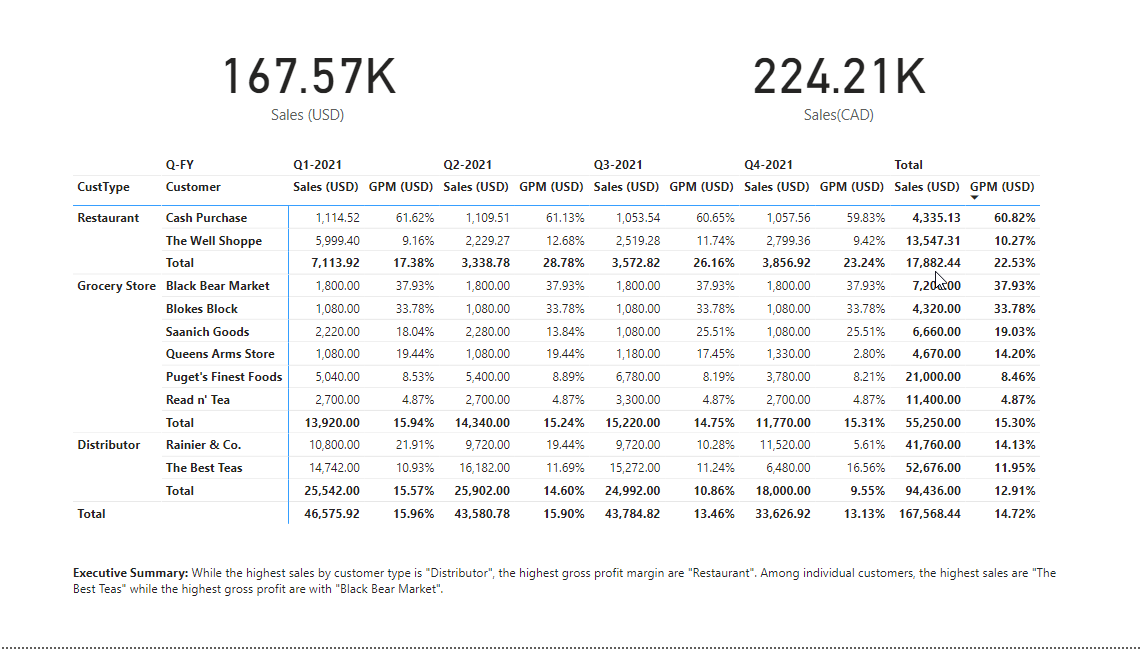

Layout of this report page (visuals, bound fields, positions):
{"tool":"powerbi","page":{"name":"Sales and GPM","canvas":[1280,720],"ordinal":0},"visuals":[{"type":"textbox","box":[150,117.2,300,150],"z":0},{"type":"pivotTable","fields":{"Rows":["Customers.CustType","Customers.Customer"],"Values":["Sales.Sales ($USD)","Sales.GPM (USD)"],"Columns":["Date.Q-FY"]},"box":[83.7,172.9,1111.5,451.5],"z":1000},{"type":"textbox","box":[1003.1,41.2,65.9,38.4],"z":2000},{"type":"card","fields":{"Values":["Sales.Sales(CAD)"]},"box":[790.4,22,278.6,150.9],"z":3000},{"type":"card","fields":{"Values":["Sales.Sales ($USD)"]},"box":[207.2,22,278.6,150.9],"z":4000},{"type":"textbox","box":[83.7,624.4,1111.5,96.1],"z":5000}]}

Visuals, with their boxes in screenshot pixels (x1, y1, x2, y2), scaled from the page's 1280x720 canvas onto the 1142x650 screenshot:
textbox: <box>134,106,401,241</box>
pivotTable - Customers.CustType x Customers.Customer: <box>75,156,1066,564</box>
textbox: <box>895,37,954,72</box>
card - Sales.Sales(CAD): <box>705,20,954,156</box>
card - Sales.Sales ($USD): <box>185,20,433,156</box>
textbox: <box>75,564,1066,649</box>
